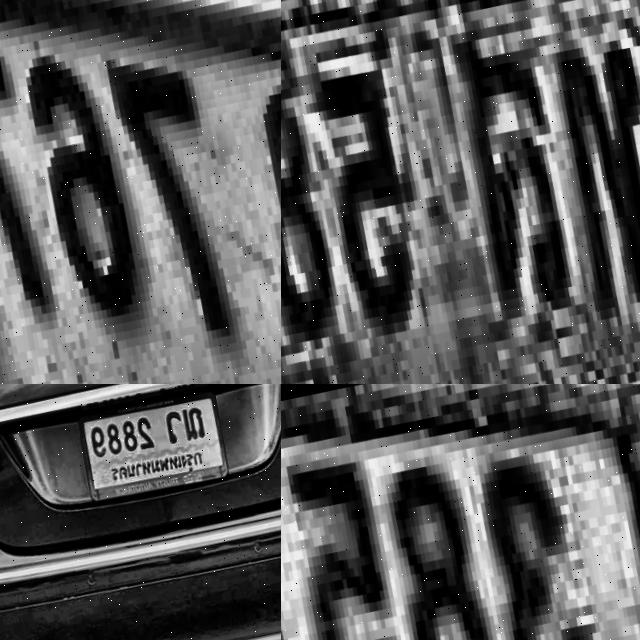license-plate: (281, 0, 640, 384), (0, 0, 281, 384), (281, 384, 640, 640), (73, 384, 237, 506)
